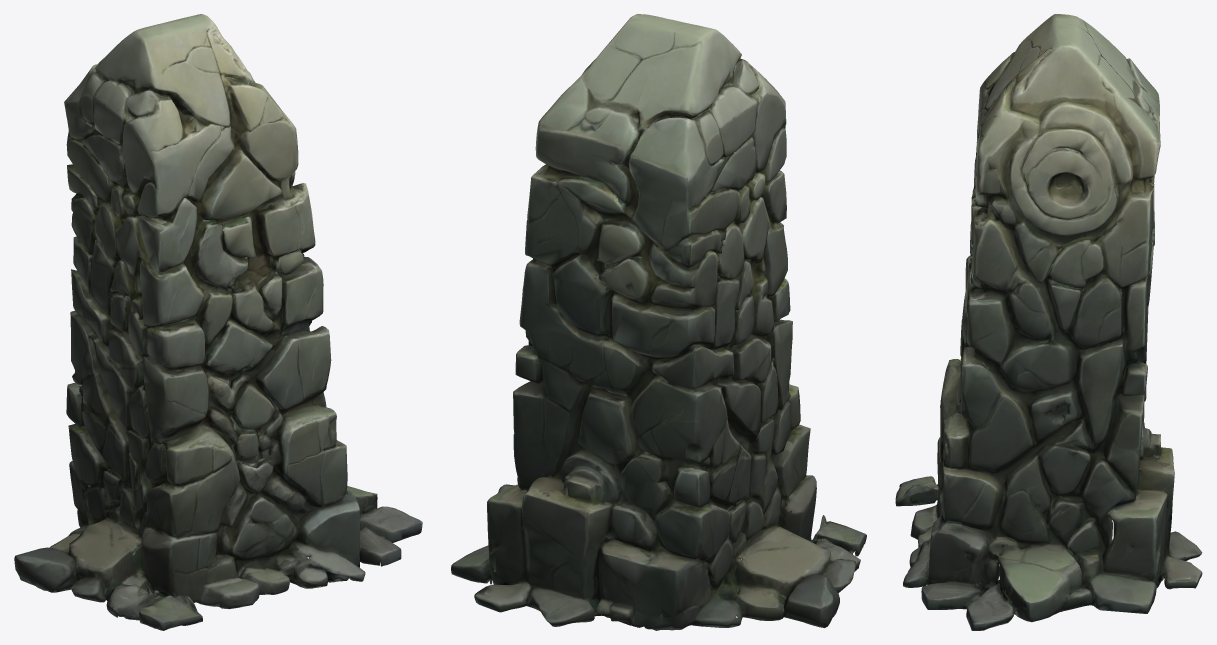
File: Ancient_Obelisk.glb
The picture shows the model from 3 angles, left to right: view 1: azimuth 30°, elevation 25°; view 2: azimuth 150°, elevation 25°; view 3: azimuth 270°, elevation 25°; orthographic projection. The views are drawn at different scales.
Parts seen in each view (by area): view 1: Ancient_Obelisk; view 2: Ancient_Obelisk; view 3: Ancient_Obelisk.
Part boxes in pixels (left/top/right/bottom): Ancient_Obelisk: left=14, top=14, right=422, bottom=630; Ancient_Obelisk: left=451, top=14, right=866, bottom=630; Ancient_Obelisk: left=895, top=14, right=1202, bottom=630.
Bounding box in the file's own units: 1.42 × 2 × 1.09.
Materials: 1 (1 with a texture image).
